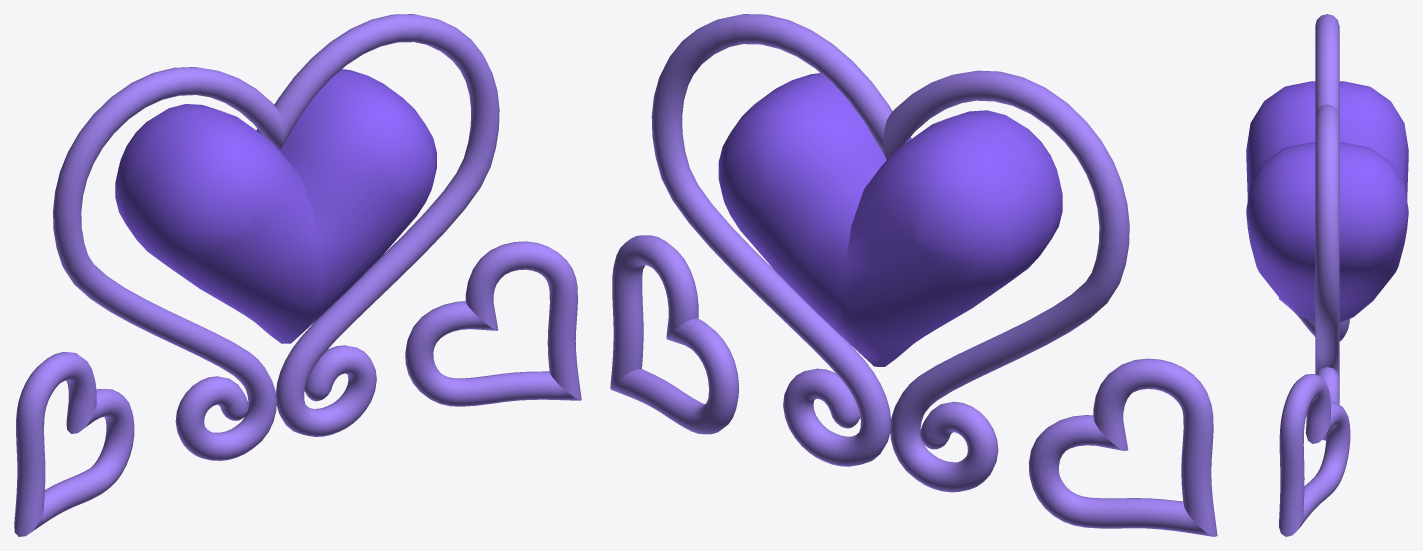
Rendered from Cake_ThemeValentine_A.FBX.
The picture shows the model from 3 angles, left to right: view 1: azimuth 30°, elevation 25°; view 2: azimuth 150°, elevation 25°; view 3: azimuth 270°, elevation 25°; orthographic projection. The views are drawn at different scales.
Parts seen in each view (by area): view 1: Cake_ThemeValentine_A; view 2: Cake_ThemeValentine_A; view 3: Cake_ThemeValentine_A.
Boxes of the visible parts, bbox=[...] form: Cake_ThemeValentine_A: bbox=[14, 14, 581, 536]; Cake_ThemeValentine_A: bbox=[610, 14, 1217, 536]; Cake_ThemeValentine_A: bbox=[1246, 14, 1408, 536].
Bounding box in the file's own units: 114726 × 78963 × 33347.
